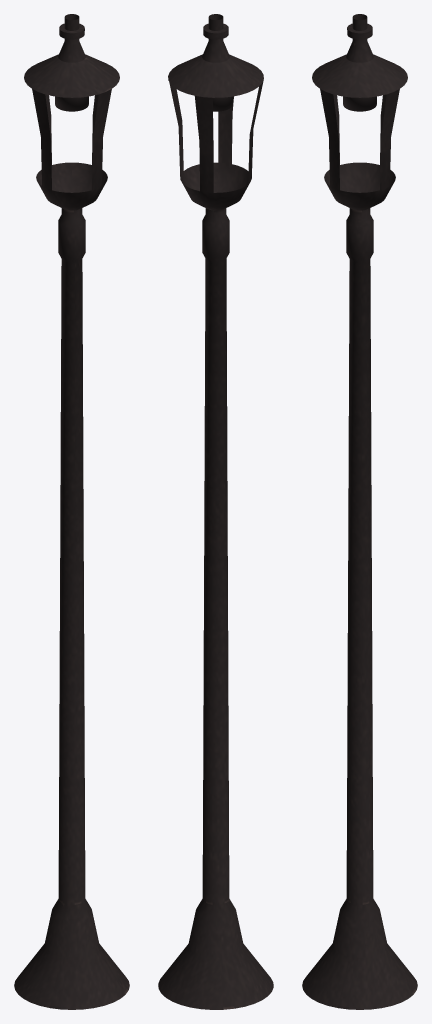
The model's file is light_LOD0.fbx.
3 views of the same model, side by side, from view 1: azimuth 90°, elevation 25°; view 2: azimuth 210°, elevation 25°; view 3: azimuth 270°, elevation 25° (orthographic).
Parts seen in each view (by area): view 1: light_LOD0; view 2: light_LOD0; view 3: light_LOD0.
Boxes of the visible parts, x1,y1,x2,y2 form: light_LOD0: (14, 14, 129, 1009); light_LOD0: (158, 14, 273, 1009); light_LOD0: (302, 14, 417, 1009).
Size of the model in its own units: 47.34 by 437 by 47.34.
